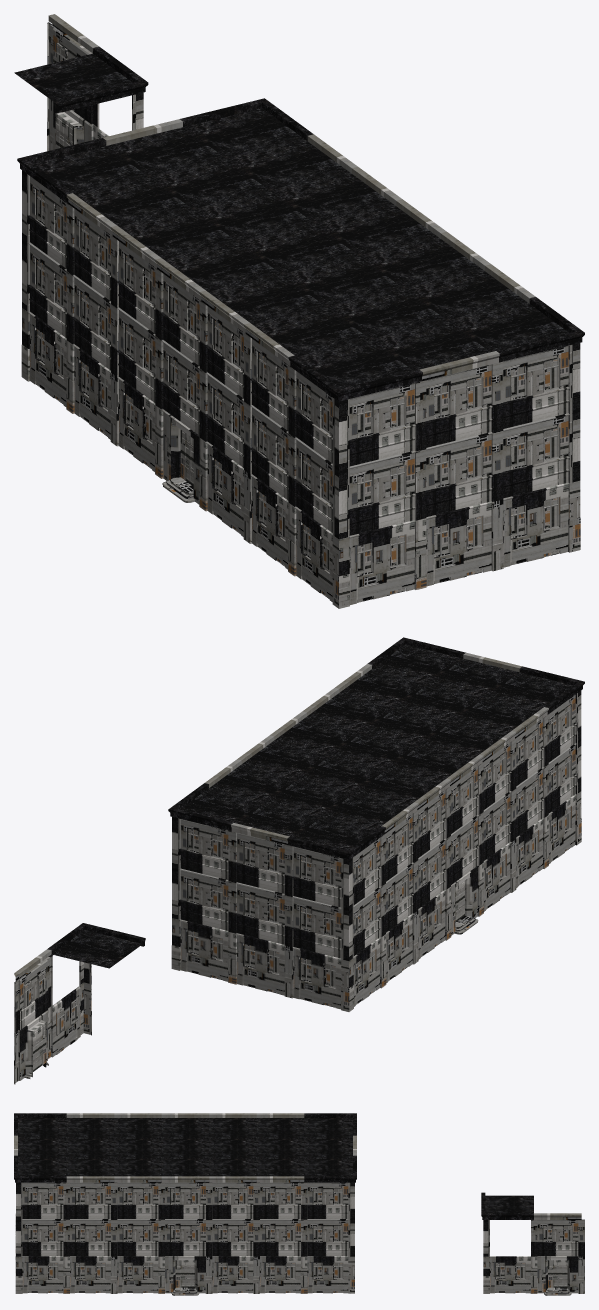
File: Modular buildingPacked.fbx
The picture shows the model from 3 angles, top to bottom: view 1: azimuth 30°, elevation 25°; view 2: azimuth 150°, elevation 25°; view 3: azimuth 270°, elevation 25°; orthographic projection. The views are drawn at different scales.
Visible parts, largest first — view 1: Facade-enterance.001, Roof-plane, Roof-odfasady naroznik, Facade-enterance, Fsada-pietro; view 2: Facade-enterance.001, Roof-plane, Facade-parter, Facade-enterance, Fsada-pietro, Filary Corner, Roof-odfasady naroznik, Filar.001; view 3: Facade-enterance.001, Facade-enterance, Fsada-pietro, Facade-parter, Roof-plane, Filar, Filar.001, Filary Corner, Roof-odfasady naroznik, Roof-odfasady.
Boxes of the visible parts, x1,y1,x2,y2 form: Facade-enterance.001: (17,98,584,608); Roof-plane: (14,53,132,105); Roof-odfasady naroznik: (59,46,148,112); Facade-enterance: (53,102,91,149); Fsada-pietro: (53,28,91,124); Facade-enterance.001: (168,637,584,1011); Roof-plane: (52,930,142,968); Facade-parter: (52,986,80,1056); Facade-enterance: (20,1011,48,1080); Fsada-pietro: (20,960,47,1029); Filary Corner: (79,961,91,1035); Roof-odfasady naroznik: (47,923,145,957); Filar.001: (14,980,19,1084); Facade-enterance.001: (14,1113,356,1295); Facade-enterance: (537,1256,578,1295); Fsada-pietro: (537,1220,578,1256); Facade-parter: (490,1256,530,1293); Roof-plane: (485,1195,533,1213); Filar: (530,1220,537,1293); Filar.001: (578,1219,584,1293); Filary Corner: (483,1220,489,1293); Roof-odfasady naroznik: (481,1192,533,1219); Roof-odfasady: (534,1213,581,1219).
Size of the model in its own units: 2089 by 1700 by 7541.
